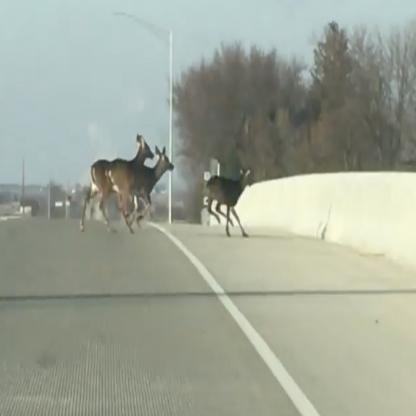Deer: (79, 132, 156, 236), (104, 144, 175, 236), (205, 167, 255, 239)
